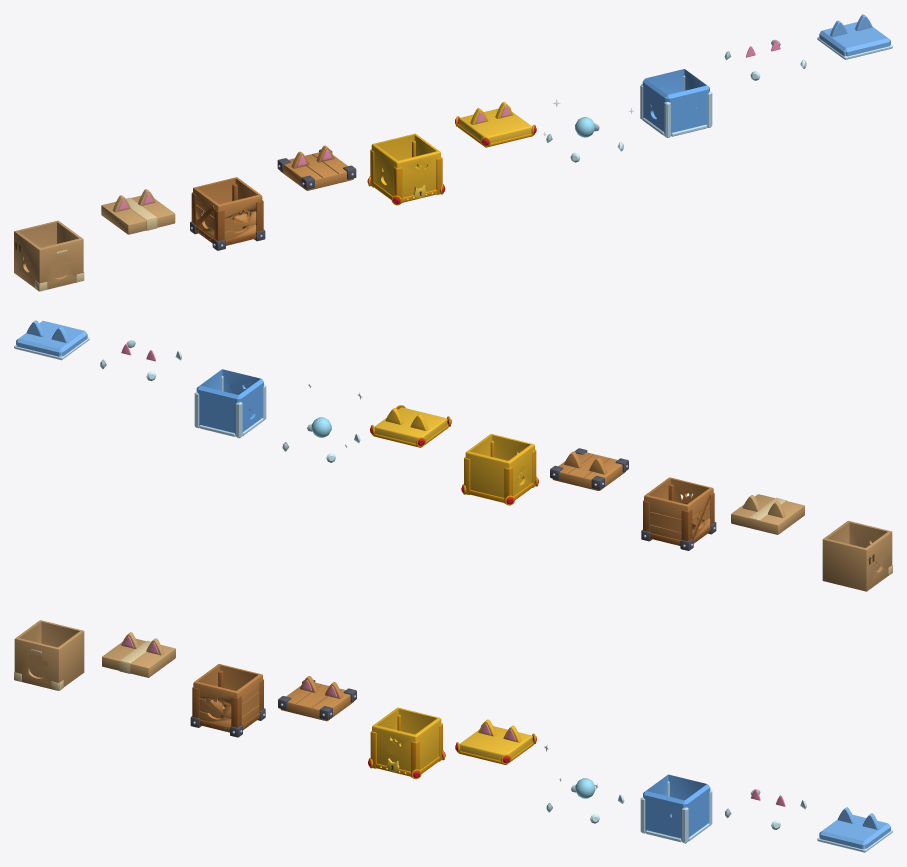
The model's file is Crates.fbx.
3 views of the same model, one above another, from view 1: azimuth 30°, elevation 25°; view 2: azimuth 150°, elevation 25°; view 3: azimuth 330°, elevation 25° (orthographic).
Visible parts, largest first — view 1: Crate_Wood, Crate_Gold, Crate_Paper, Crate_Diamond_Glass, Crate_Wood_Lid, Crate_Gold_Lid, Crate_Paper_Lid, Crate_Diamond_Lid_Glass, Crate_Diamond; view 2: Crate_Wood, Crate_Gold, Crate_Paper, Crate_Diamond_Glass, Crate_Gold_Lid, Crate_Wood_Lid, Crate_Paper_Lid, Crate_Diamond_Lid_Glass, Crate_Diamond; view 3: Crate_Wood, Crate_Gold, Crate_Paper, Crate_Diamond_Glass, Crate_Gold_Lid, Crate_Wood_Lid, Crate_Paper_Lid, Crate_Diamond_Lid_Glass, Crate_Diamond.
Boxes of the visible parts, x1=… form: Crate_Wood: x1=190, y1=177, x2=265, y2=250; Crate_Gold: x1=367, y1=133, x2=445, y2=205; Crate_Paper: x1=14, y1=220, x2=84, y2=291; Crate_Diamond_Glass: x1=640, y1=69, x2=712, y2=137; Crate_Wood_Lid: x1=277, y1=145, x2=356, y2=190; Crate_Gold_Lid: x1=455, y1=102, x2=536, y2=147; Crate_Paper_Lid: x1=101, y1=189, x2=175, y2=234; Crate_Diamond_Lid_Glass: x1=817, y1=14, x2=892, y2=59; Crate_Diamond: x1=543, y1=99, x2=634, y2=162; Crate_Wood: x1=641, y1=477, x2=716, y2=550; Crate_Gold: x1=461, y1=434, x2=538, y2=505; Crate_Paper: x1=822, y1=521, x2=892, y2=591; Crate_Diamond_Glass: x1=194, y1=369, x2=266, y2=438; Crate_Gold_Lid: x1=370, y1=405, x2=451, y2=447; Crate_Wood_Lid: x1=550, y1=448, x2=628, y2=490; Crate_Paper_Lid: x1=731, y1=494, x2=804, y2=534; Crate_Diamond_Lid_Glass: x1=14, y1=320, x2=89, y2=360; Crate_Diamond: x1=282, y1=383, x2=362, y2=462; Crate_Wood: x1=190, y1=664, x2=265, y2=737; Crate_Gold: x1=368, y1=707, x2=445, y2=779; Crate_Paper: x1=14, y1=620, x2=84, y2=690; Crate_Diamond_Glass: x1=640, y1=774, x2=712, y2=843; Crate_Gold_Lid: x1=455, y1=719, x2=536, y2=764; Crate_Wood_Lid: x1=278, y1=676, x2=356, y2=721; Crate_Paper_Lid: x1=102, y1=632, x2=175, y2=677; Crate_Diamond_Lid_Glass: x1=817, y1=807, x2=892, y2=852; Crate_Diamond: x1=544, y1=744, x2=624, y2=823.
Size of the model in its own units: 38.19 by 2.62 by 2.65.
Materials: 1 (1 with a texture image).
